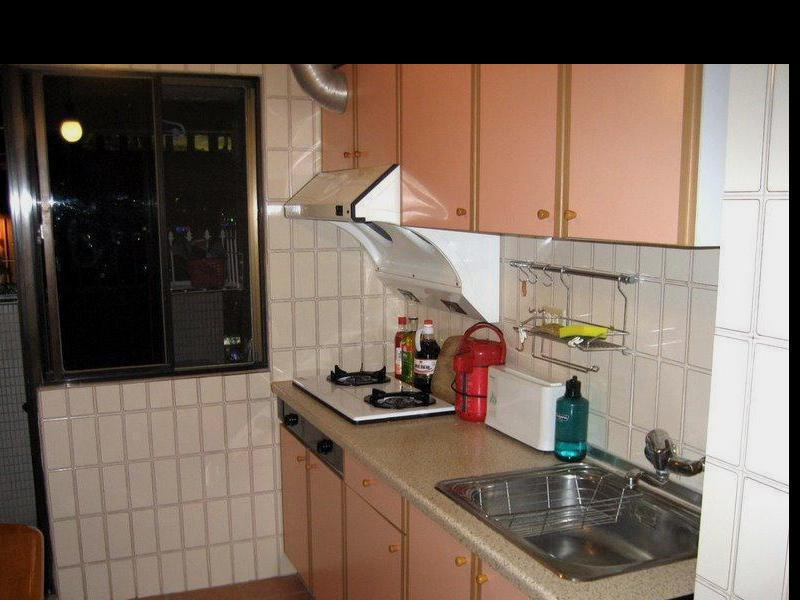Electrodomestico: (255, 366, 348, 600)
Lavaplatos: (440, 441, 703, 596)
